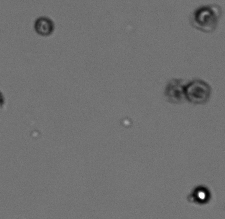Dead Cell: (187, 80, 212, 104), (166, 82, 187, 103), (194, 6, 216, 25), (35, 17, 52, 36)
Living Cell: (191, 185, 211, 205)
